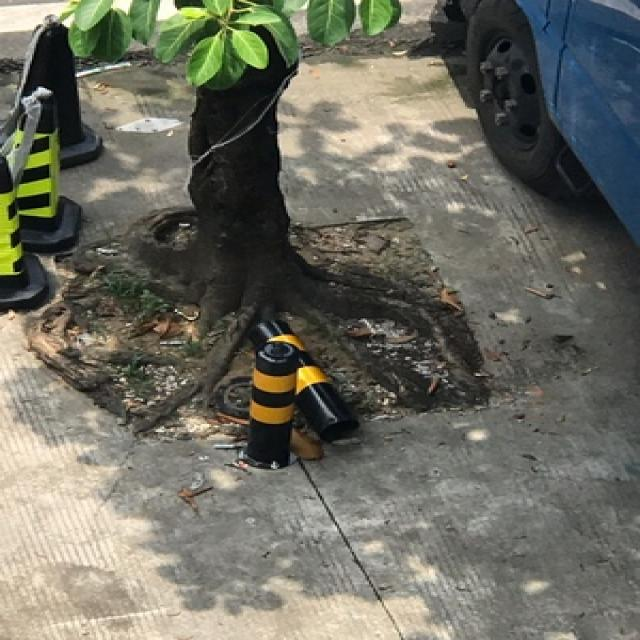reflective_cone: (8, 16, 102, 162), (4, 88, 81, 250), (0, 152, 49, 310)
warning_column: (239, 341, 299, 467)
